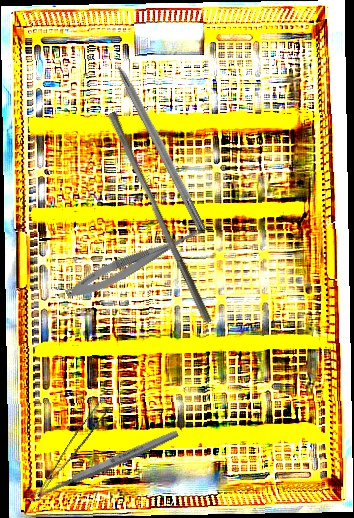Hook Surgical: (101, 38, 210, 234)
Micro Scissor: (62, 216, 211, 306)
Pusher: (100, 110, 221, 325)
Surgical Spoon: (27, 428, 180, 504)
Tissue Forceps: (36, 399, 110, 504)
